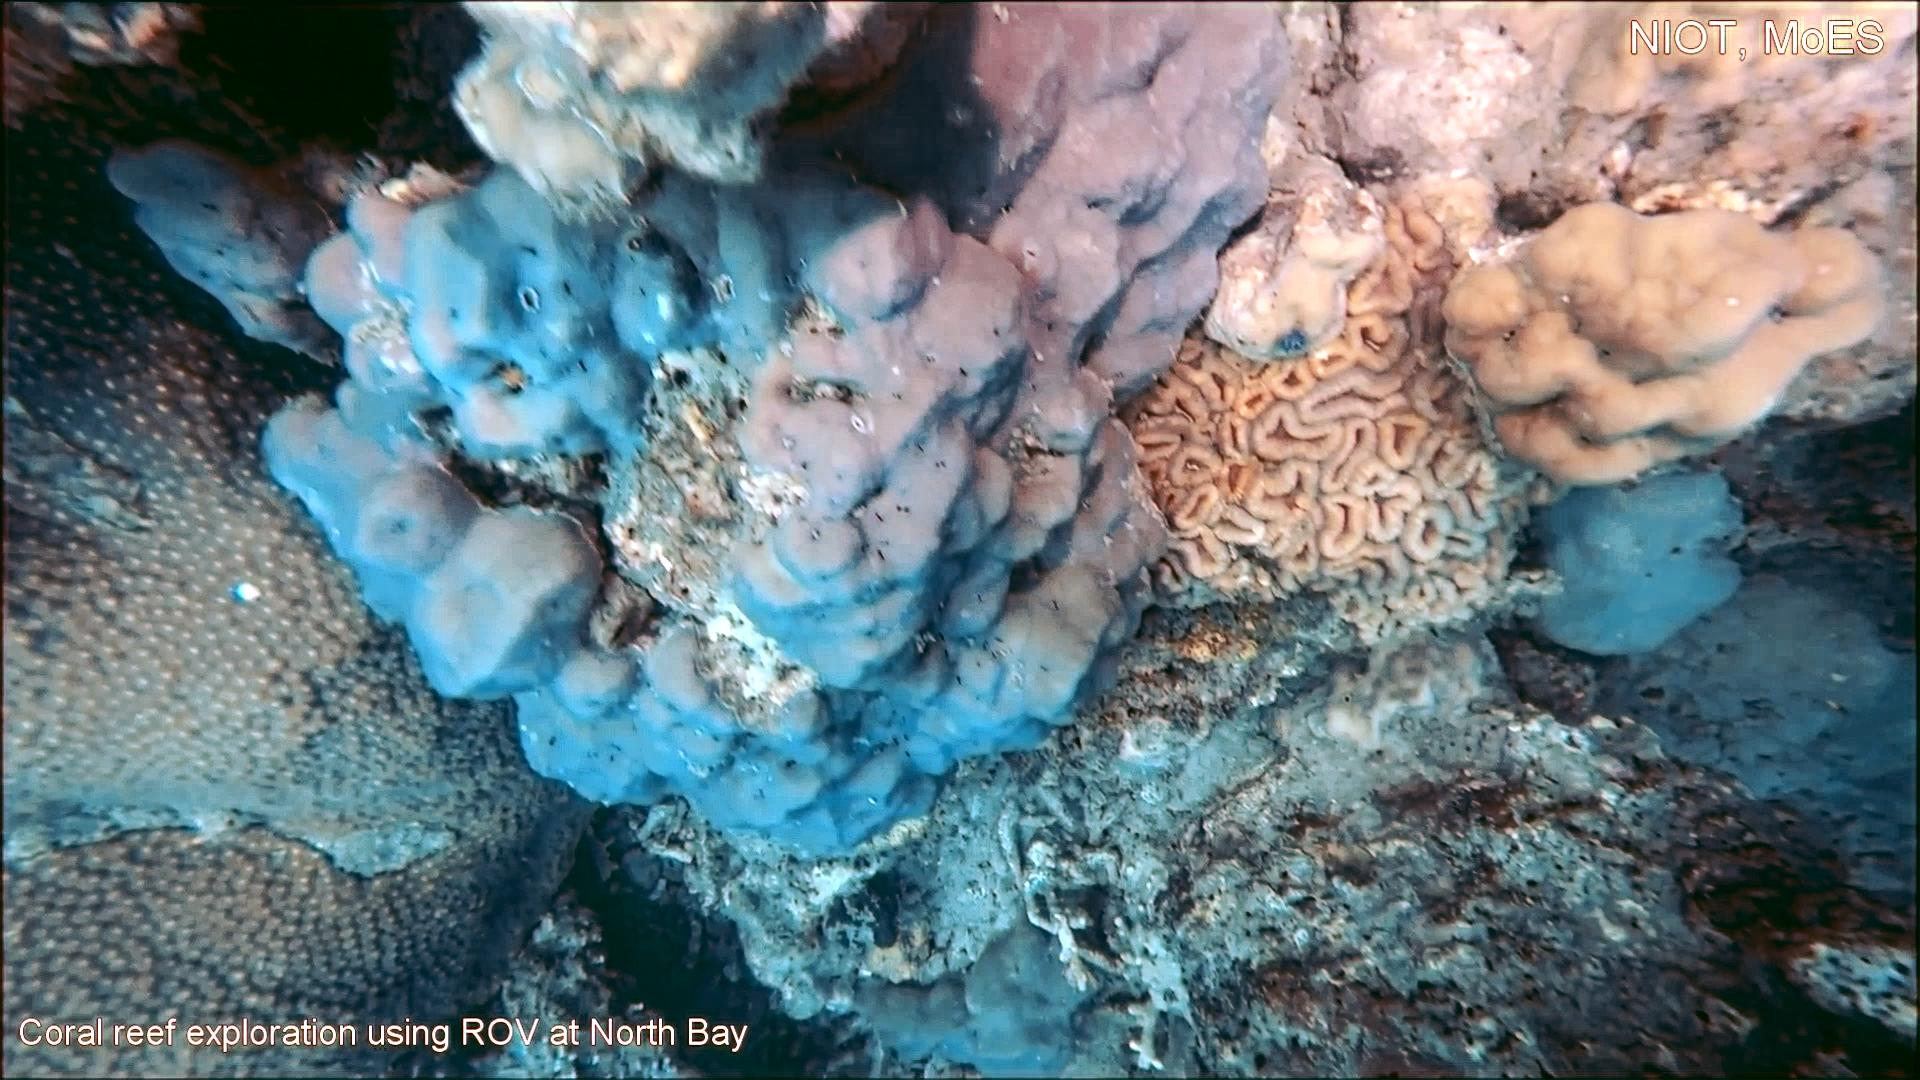Lobophyllia: (1112, 185, 1549, 658)
